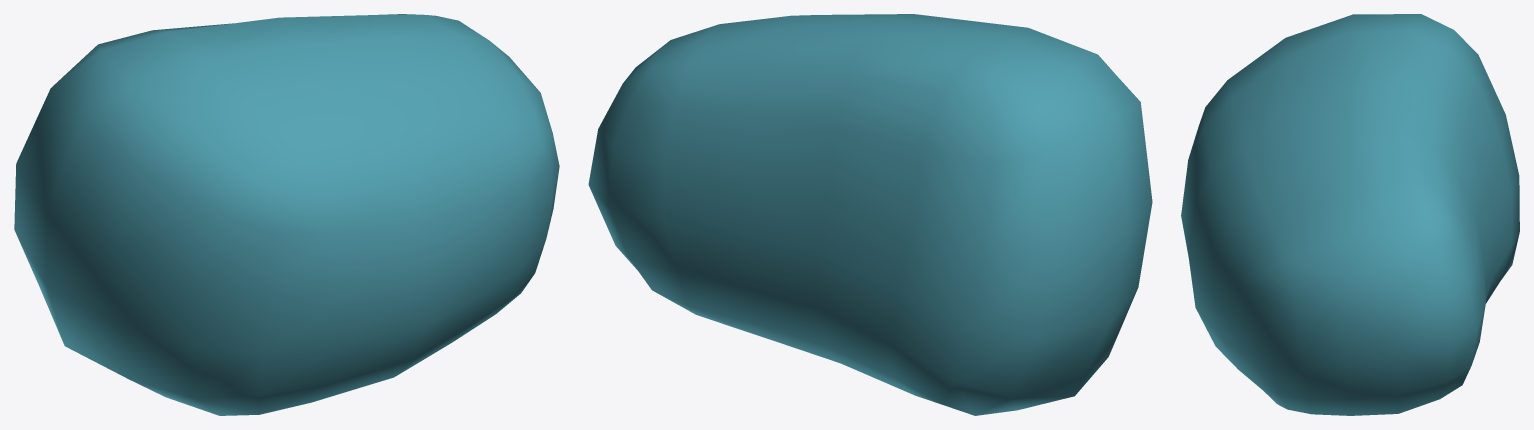
The model's file is VIS_Alpha_Surface_030.dae.
3 views of the same model, side by side, from view 1: azimuth 30°, elevation 25°; view 2: azimuth 150°, elevation 25°; view 3: azimuth 270°, elevation 25° (orthographic). The views are drawn at different scales.
Parts seen in each view (by area): view 1: VIS_Alpha_Surface_030; view 2: VIS_Alpha_Surface_030; view 3: VIS_Alpha_Surface_030.
Boxes of the visible parts, box(x1,y1,x2,y2) form: VIS_Alpha_Surface_030: box(14, 14, 559, 415); VIS_Alpha_Surface_030: box(588, 14, 1152, 415); VIS_Alpha_Surface_030: box(1181, 14, 1519, 415).
Bounding box in the file's own units: 0.0305 × 0.0206 × 0.0199.
